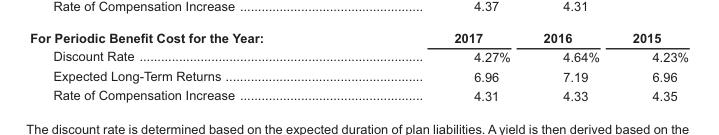table: (29, 28, 688, 104)
table column: (29, 28, 358, 104), (358, 28, 526, 104), (526, 28, 615, 104), (615, 28, 688, 104)
table column header: (29, 28, 688, 47)
table row: (29, 28, 688, 47), (29, 47, 688, 66), (29, 66, 688, 85), (29, 85, 688, 104)
